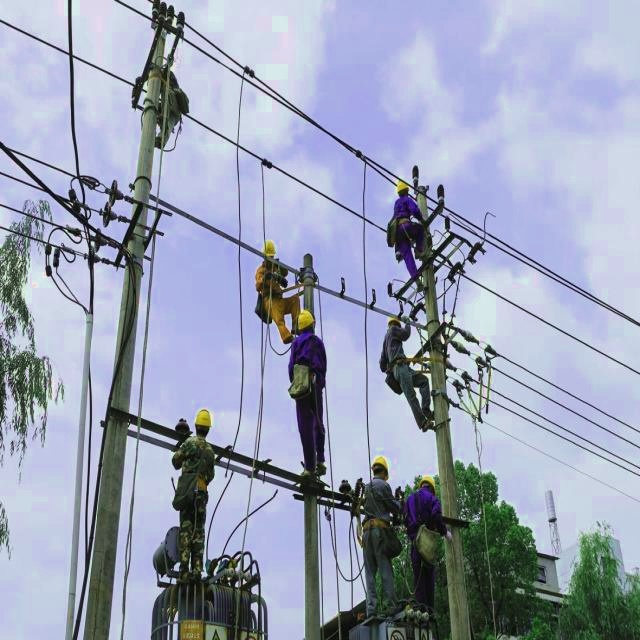Con_Casco: (195, 406, 213, 438), (371, 455, 391, 479), (298, 308, 315, 332)
